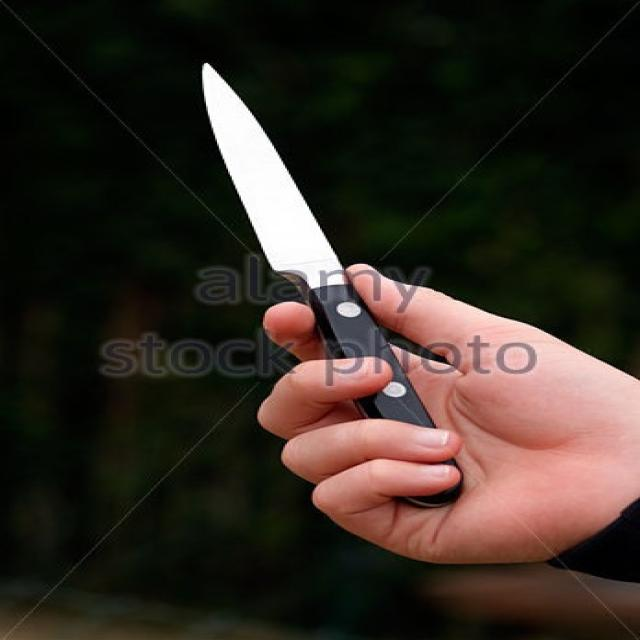knife: (185, 61, 407, 365)
